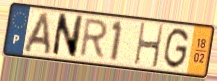1: (109, 20, 124, 64)
A: (21, 11, 52, 57)
G: (162, 27, 191, 71)
H: (133, 22, 165, 70)
N: (50, 12, 85, 60)
R: (77, 18, 110, 61)
